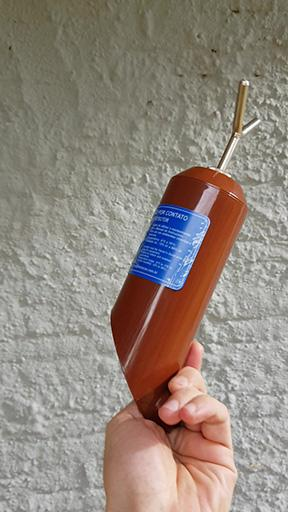Detector_Tensao_Contato: (111, 79, 263, 424)
